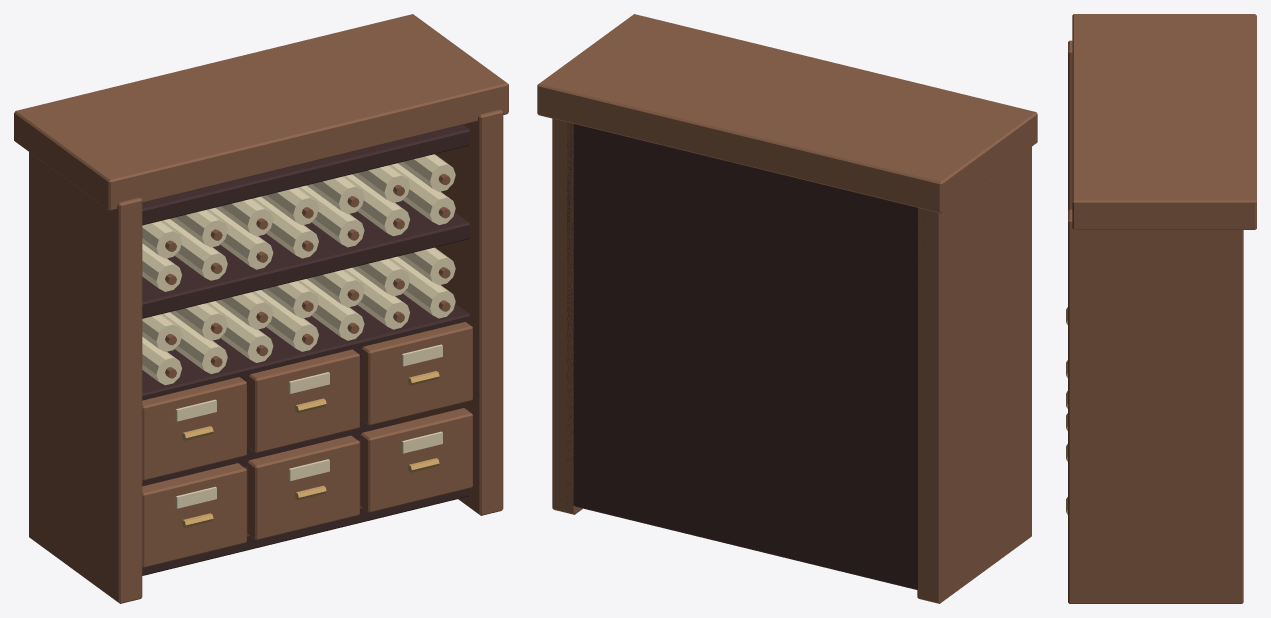
Rendered from scroll_cabinet.glb.
3 views of the same model, side by side, from view 1: azimuth 30°, elevation 25°; view 2: azimuth 150°, elevation 25°; view 3: azimuth 270°, elevation 25° (orthographic). The views are drawn at different scales.
Parts seen in each view (by area): view 1: scroll_cabinet_Cedar, scroll_cabinet_Plaster, scroll_cabinet_Timber, scroll_cabinet_Bronze; view 2: scroll_cabinet_Timber, scroll_cabinet_Cedar; view 3: scroll_cabinet_Cedar.
Part boxes in pixels (x1,y1,x2,y2): scroll_cabinet_Cedar: [14, 14, 508, 603]; scroll_cabinet_Plaster: [142, 154, 455, 508]; scroll_cabinet_Timber: [142, 125, 469, 575]; scroll_cabinet_Bronze: [181, 371, 439, 527]; scroll_cabinet_Timber: [567, 123, 924, 589]; scroll_cabinet_Cedar: [537, 14, 1037, 603]; scroll_cabinet_Cedar: [1068, 14, 1256, 603].
Bounding box in the file's own units: 2.02 × 2.05 × 0.868.
